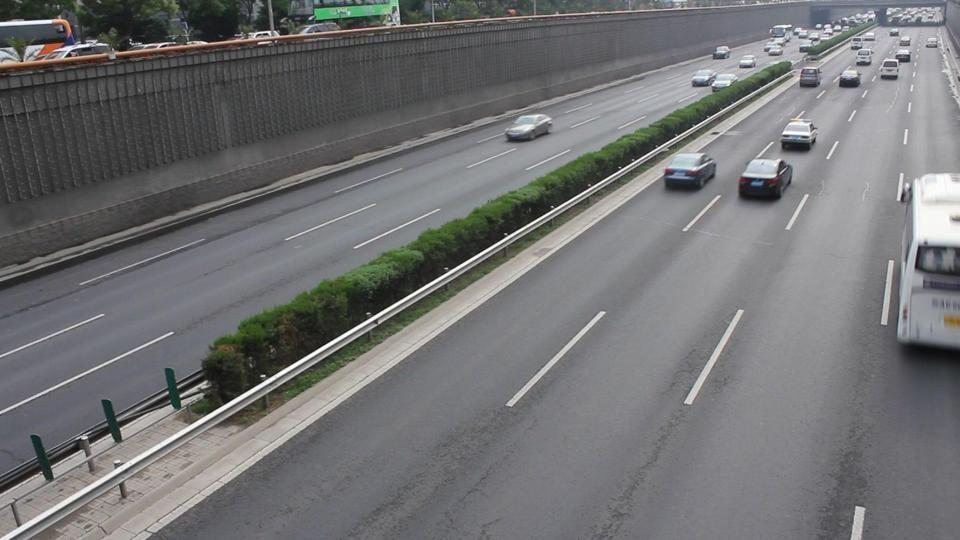car: (737, 158, 794, 200), (663, 151, 717, 190), (33, 41, 117, 63), (504, 113, 553, 142), (780, 118, 819, 151), (711, 72, 737, 91), (838, 68, 862, 88), (691, 70, 717, 88), (879, 57, 899, 80), (0, 48, 19, 64), (856, 48, 872, 65), (738, 54, 756, 69), (713, 45, 730, 60), (896, 45, 911, 61), (925, 37, 939, 48)
